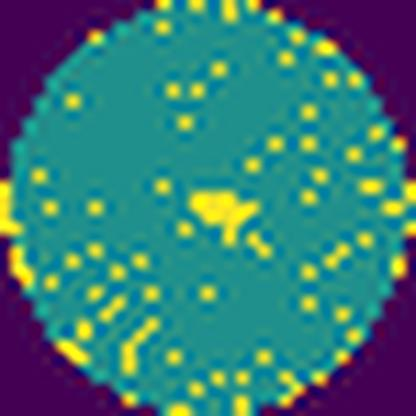Center: (185, 185, 264, 250)
